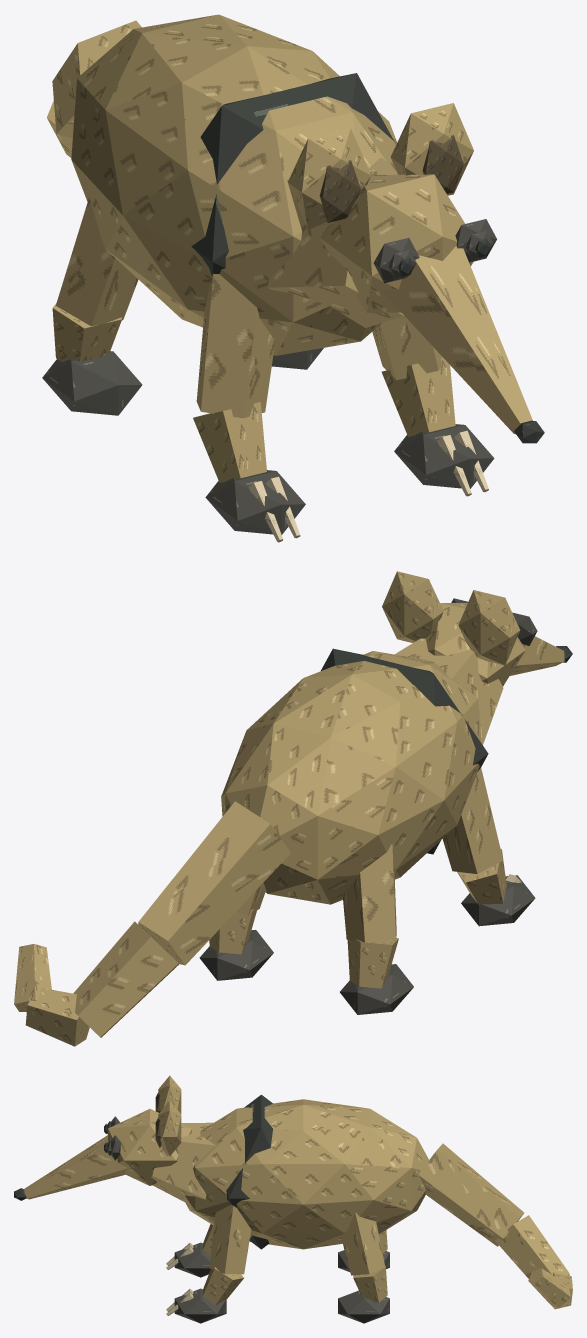
File: animal-tamandua-mirim-v01.gltf
The picture shows the model from 3 angles, top to bottom: view 1: azimuth 30°, elevation 25°; view 2: azimuth 150°, elevation 25°; view 3: azimuth 270°, elevation 25°; orthographic projection. The views are drawn at different scales.
Visible parts, largest first — view 1: corpo, cabeca, perna-frente-esquerda, perna-tras-esquerda, perna-frente-direita, cauda, perna-tras-direita; view 2: corpo, cauda, cabeca, perna-tras-esquerda, perna-frente-esquerda, perna-tras-direita; view 3: corpo, cauda, cabeca, perna-frente-direita, perna-tras-direita, perna-frente-esquerda, perna-tras-esquerda.
Part boxes in pixels (bbox=[...]): corpo: bbox=[71, 14, 404, 355]; cabeca: bbox=[288, 103, 544, 443]; perna-frente-esquerda: bbox=[193, 274, 305, 542]; perna-tras-esquerda: bbox=[42, 197, 142, 415]; perna-frente-direita: bbox=[372, 316, 494, 496]; cauda: bbox=[47, 20, 141, 157]; perna-tras-direita: bbox=[272, 348, 323, 369]; corpo: bbox=[221, 638, 503, 904]; cauda: bbox=[14, 801, 290, 1046]; cabeca: bbox=[382, 571, 572, 686]; perna-tras-esquerda: bbox=[340, 843, 413, 1014]; perna-frente-esquerda: bbox=[442, 767, 535, 926]; perna-tras-direita: bbox=[199, 887, 273, 980]; corpo: bbox=[151, 1094, 428, 1249]; cauda: bbox=[419, 1143, 572, 1309]; cabeca: bbox=[14, 1075, 191, 1200]; perna-frente-direita: bbox=[166, 1204, 251, 1323]; perna-tras-direita: bbox=[338, 1212, 389, 1323]; perna-frente-esquerda: bbox=[166, 1224, 213, 1277]; perna-tras-esquerda: bbox=[338, 1230, 389, 1271].
Size of the model in its own units: 0.7931 by 0.9024 by 2.26.
Materials: 1 (1 with a texture image).
